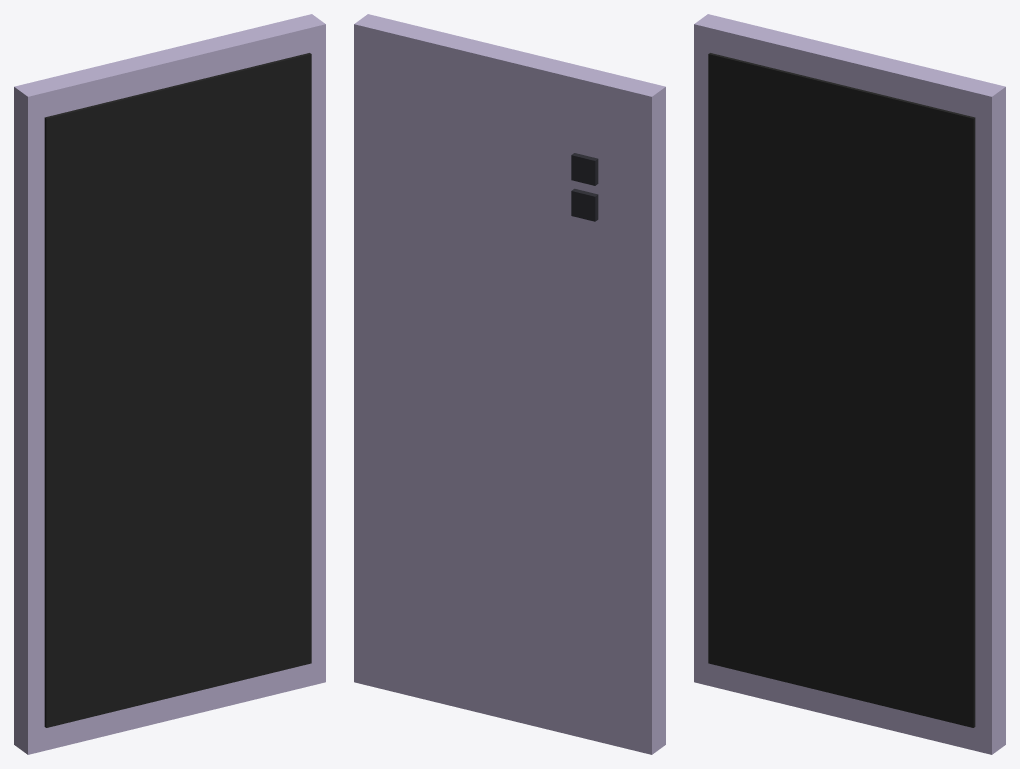
Rendered from iphone-11.glb.
3 views of the same model, side by side, from view 1: azimuth 30°, elevation 25°; view 2: azimuth 150°, elevation 25°; view 3: azimuth 330°, elevation 25° (orthographic).
Parts seen in each view (by area): view 1: tela, corpo; view 2: corpo, lente-1, lente-0; view 3: tela, corpo.
Boxes of the visible parts, x1=… form: tela: x1=44, y1=53, x2=311, y2=727; corpo: x1=14, y1=14, x2=325, y2=754; corpo: x1=354, y1=14, x2=665, y2=754; lente-1: x1=571, y1=188, x2=598, y2=221; lente-0: x1=571, y1=153, x2=598, y2=185; tela: x1=708, y1=53, x2=975, y2=727; corpo: x1=694, y1=14, x2=1005, y2=754.
Bounding box in the file's own units: 0.8714 × 1.84 × 0.0968.
